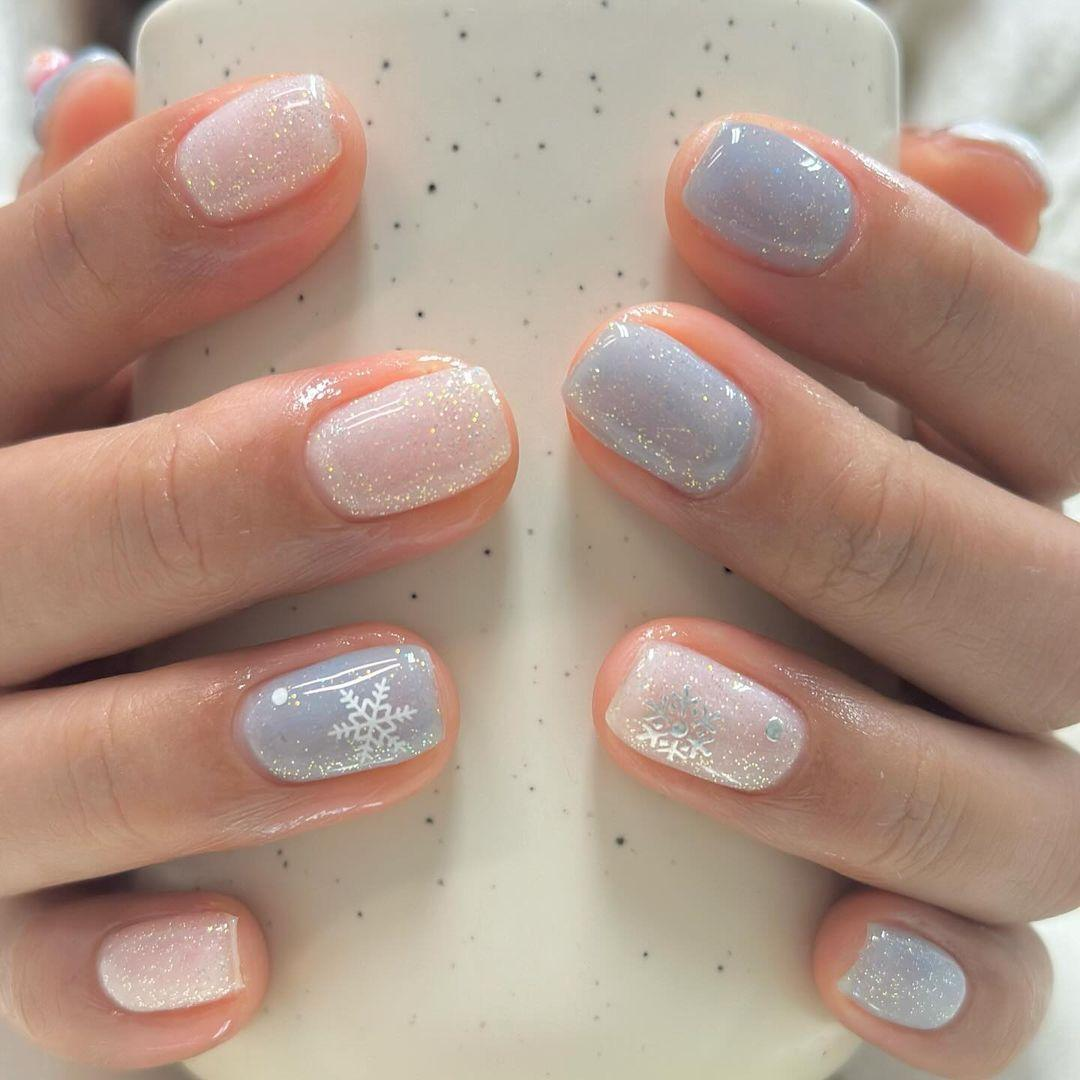nail: (561, 312, 760, 501), (300, 360, 514, 523), (603, 636, 809, 793), (231, 640, 447, 786), (677, 116, 860, 277), (169, 73, 341, 227), (899, 119, 1051, 255), (93, 908, 243, 1016), (835, 918, 968, 1032), (26, 44, 135, 181)
